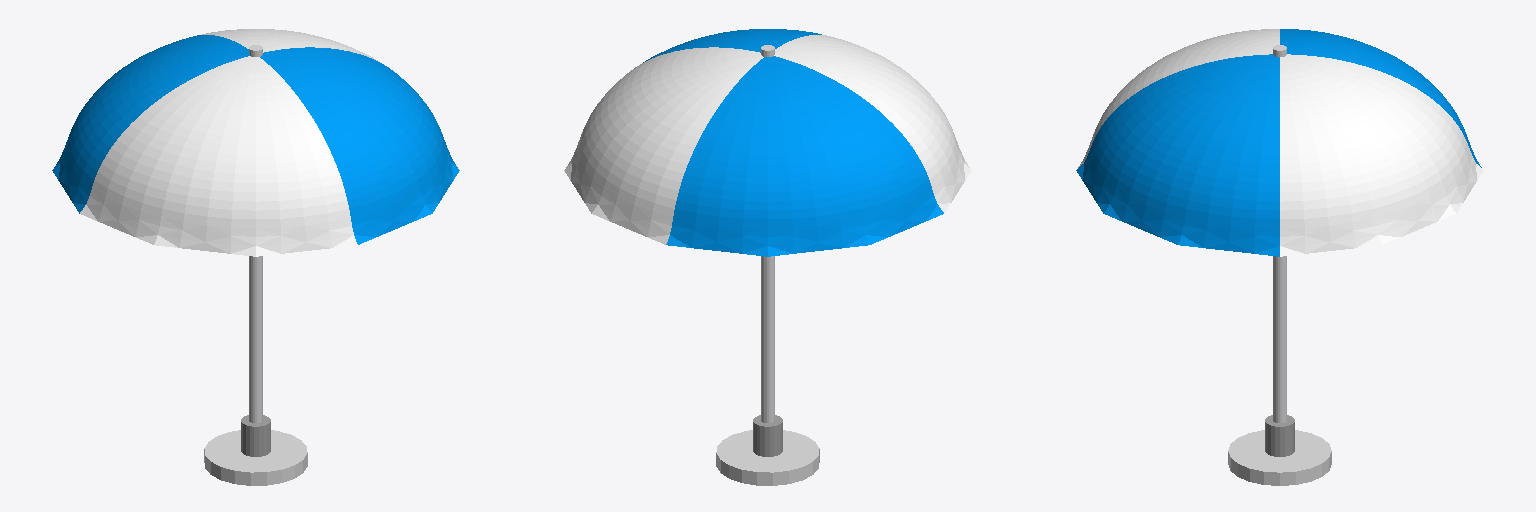
The model's file is umbrella.obj.
3 renders of one model, left to right at view 1: azimuth 30°, elevation 25°; view 2: azimuth 150°, elevation 25°; view 3: azimuth 270°, elevation 25°, orthographic.
Visible parts, largest first — view 1: polySurface1; view 2: polySurface1; view 3: polySurface1.
Part boxes in pixels (bbox=[...]): polySurface1: bbox=[52, 29, 459, 485]; polySurface1: bbox=[564, 29, 971, 485]; polySurface1: bbox=[1076, 29, 1483, 485].
Size of the model in its own units: 14.62 by 16.48 by 14.62.